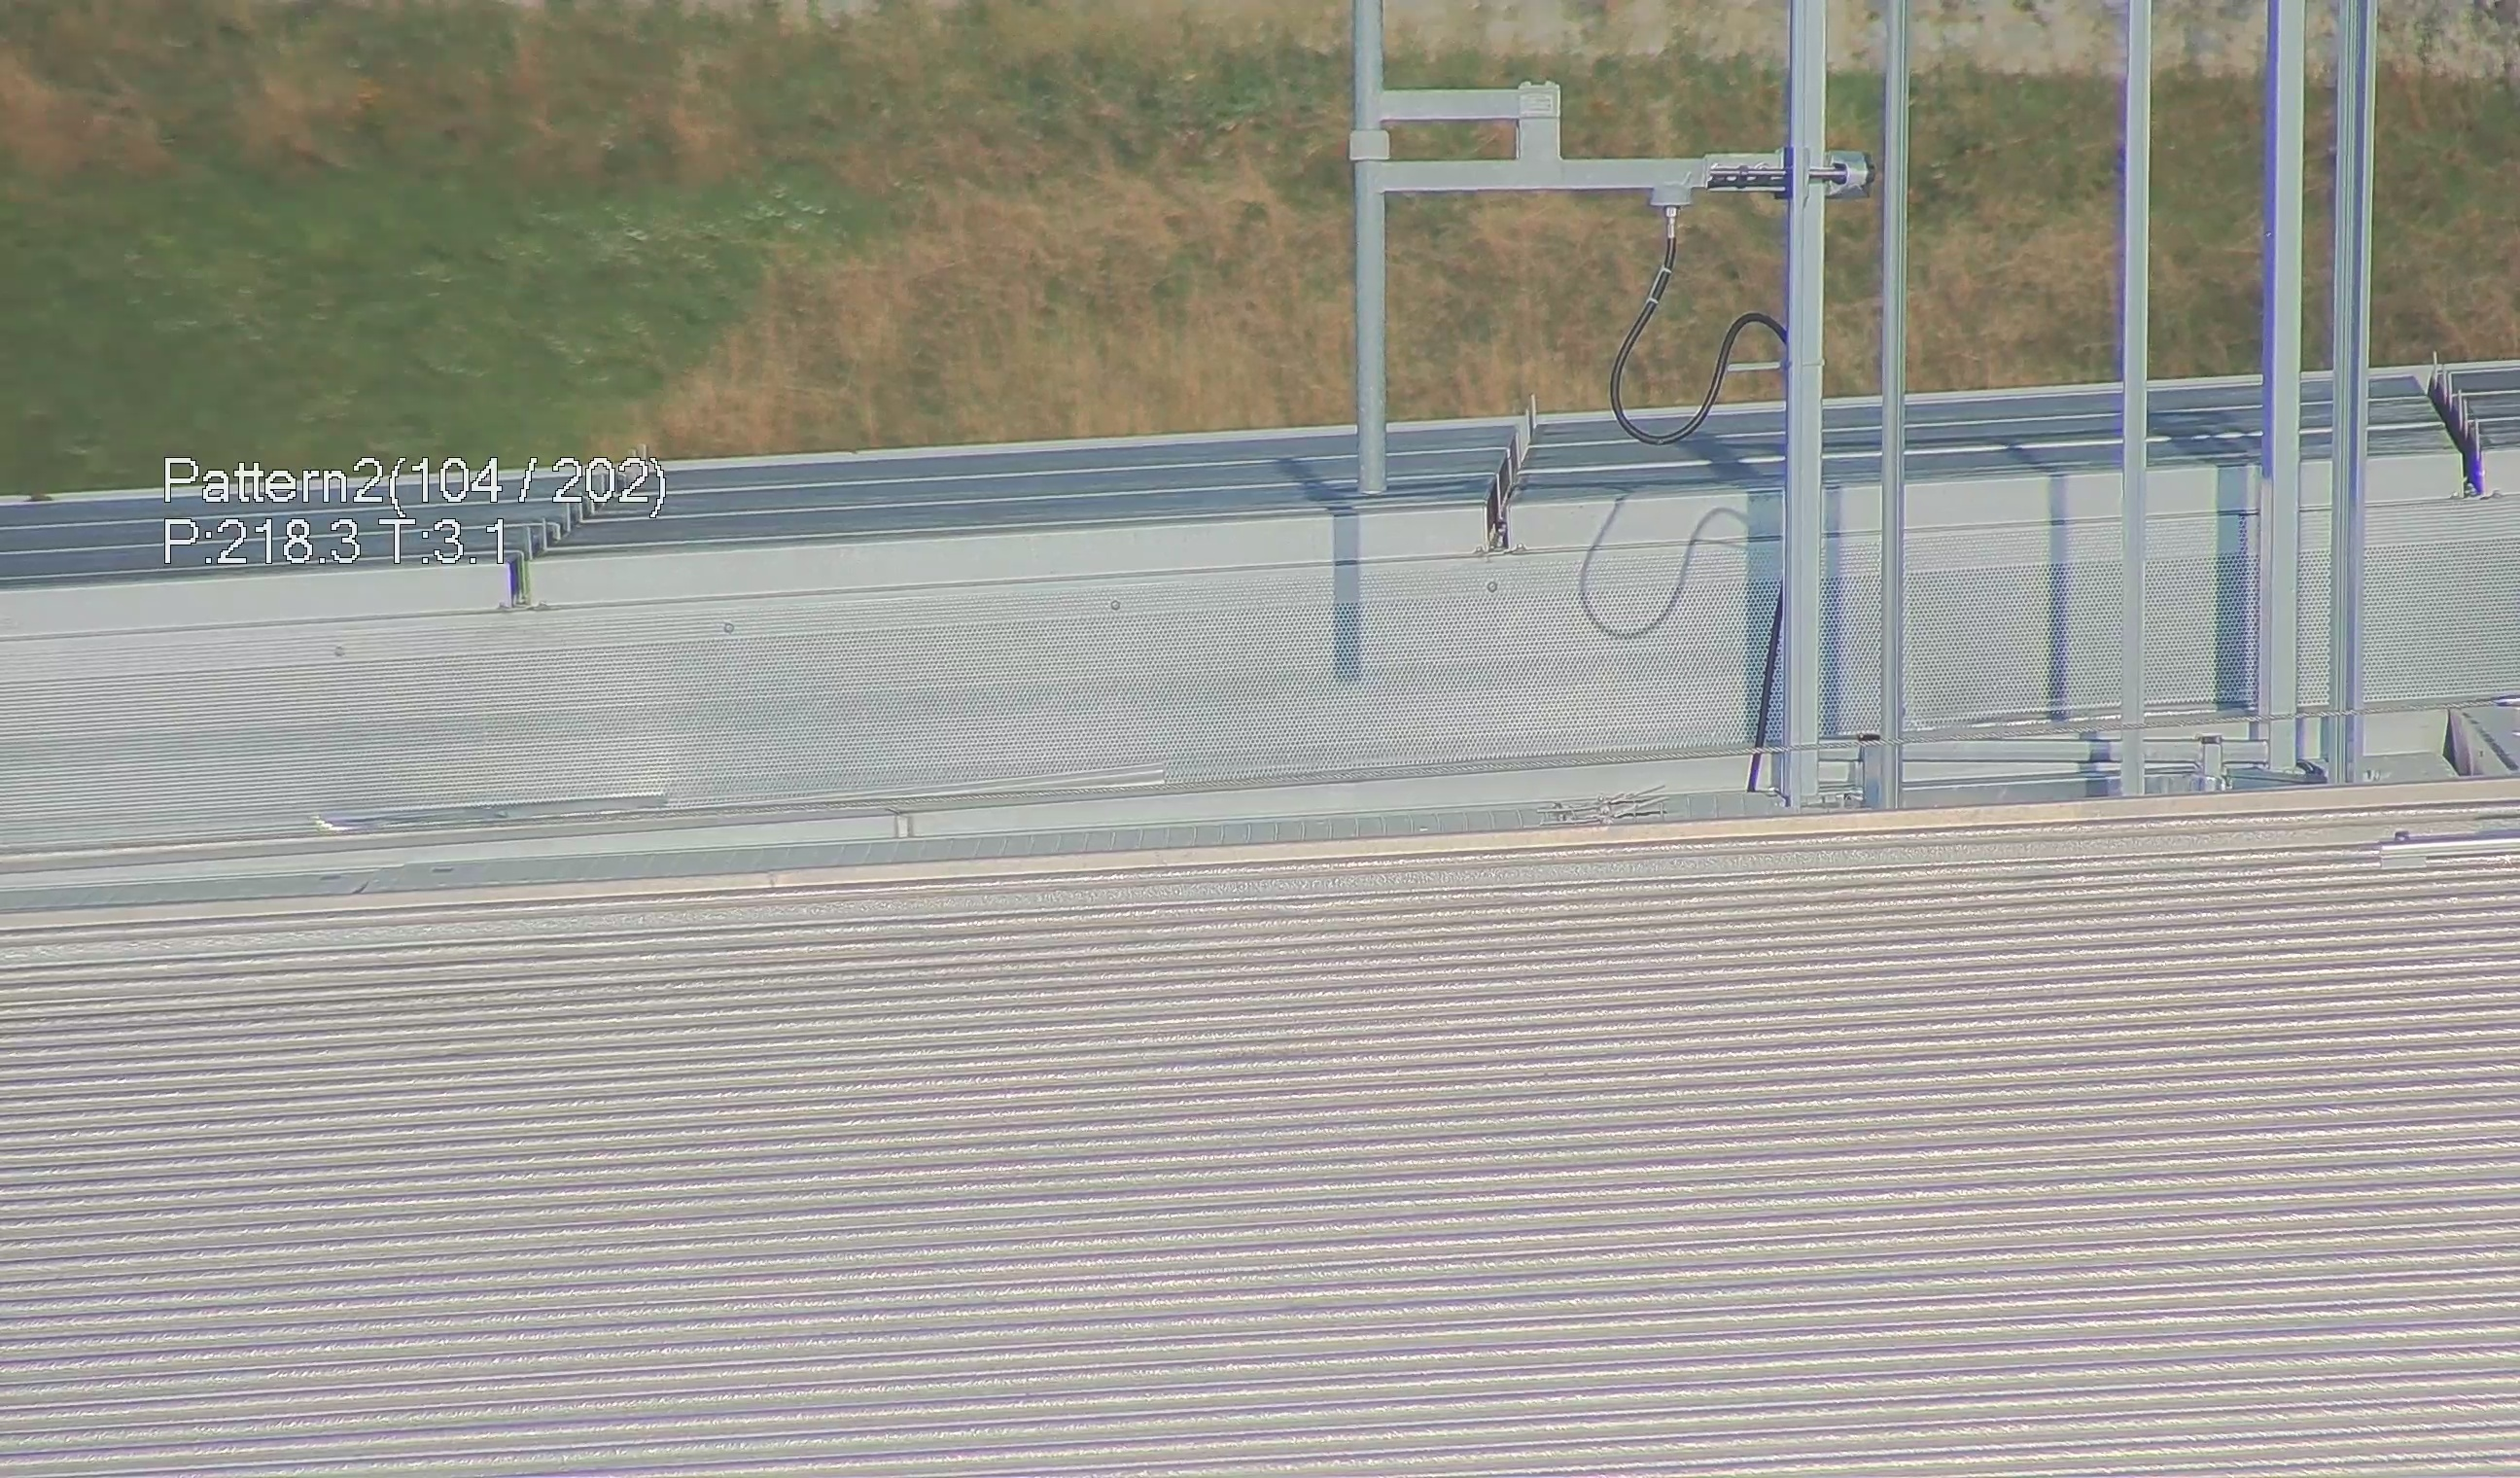Other: (2409, 343, 2506, 505)
